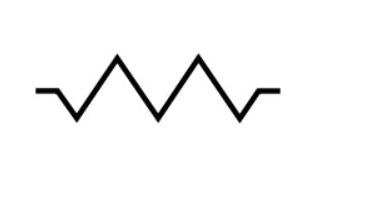resistor: (42, 36, 261, 133)
